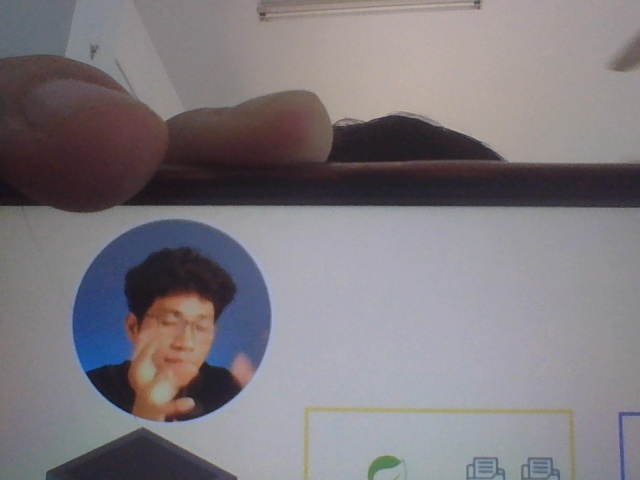fake: (118, 238, 244, 416)
